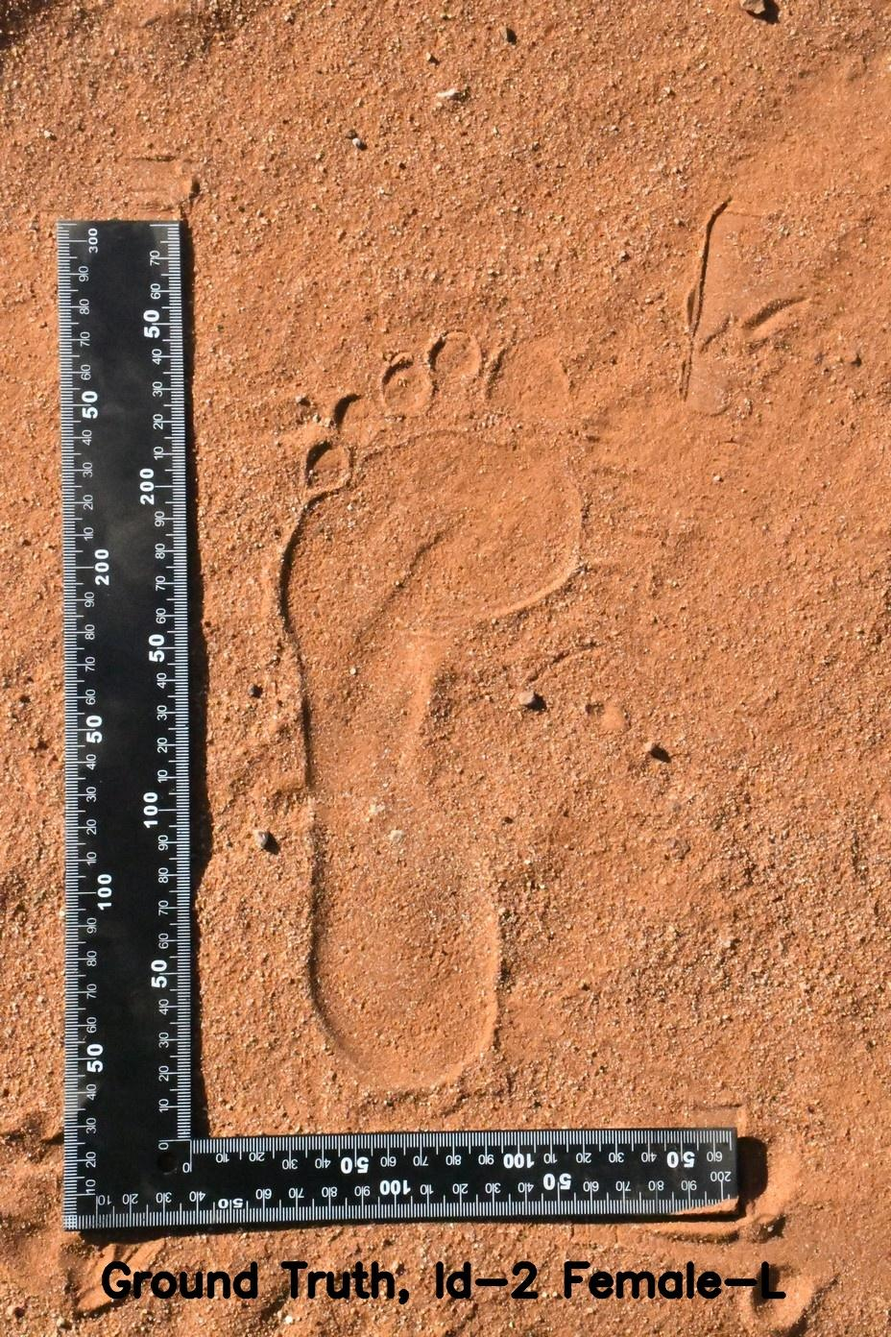human_footprint: (250, 308, 628, 1114)
